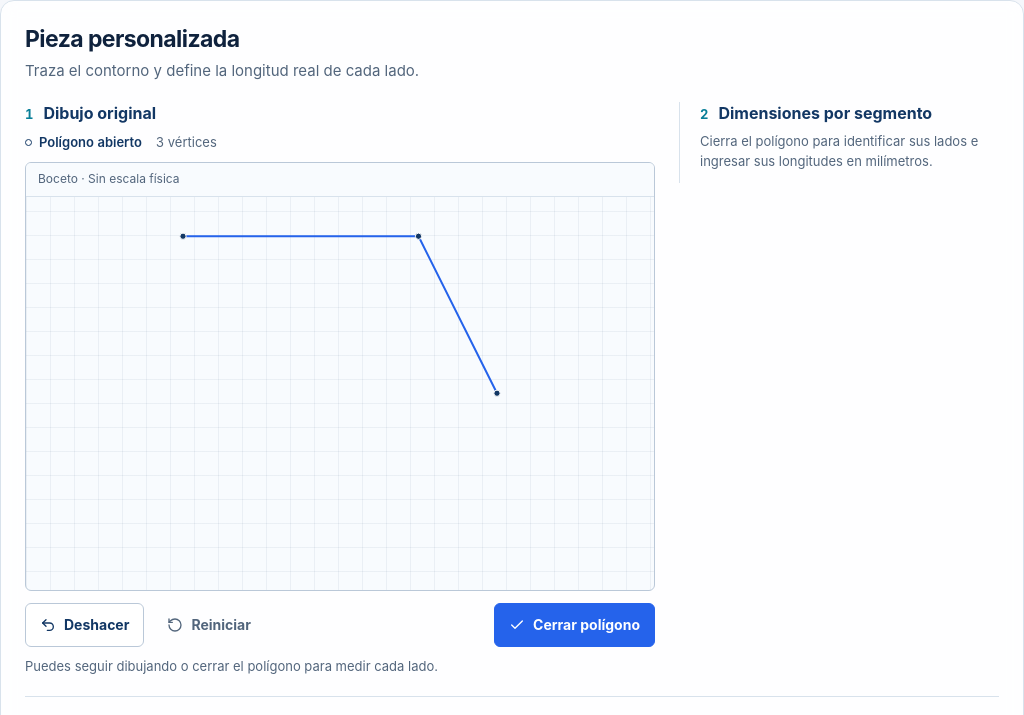
HU-007 T01 — dibujo y controles (caja negra) › T01-C04: deshacer abierto elimina el último punto hasta volver al inicio
Click the button with aria-label "Deshacer último vértice" at (85, 625), box [25,603,144,647]
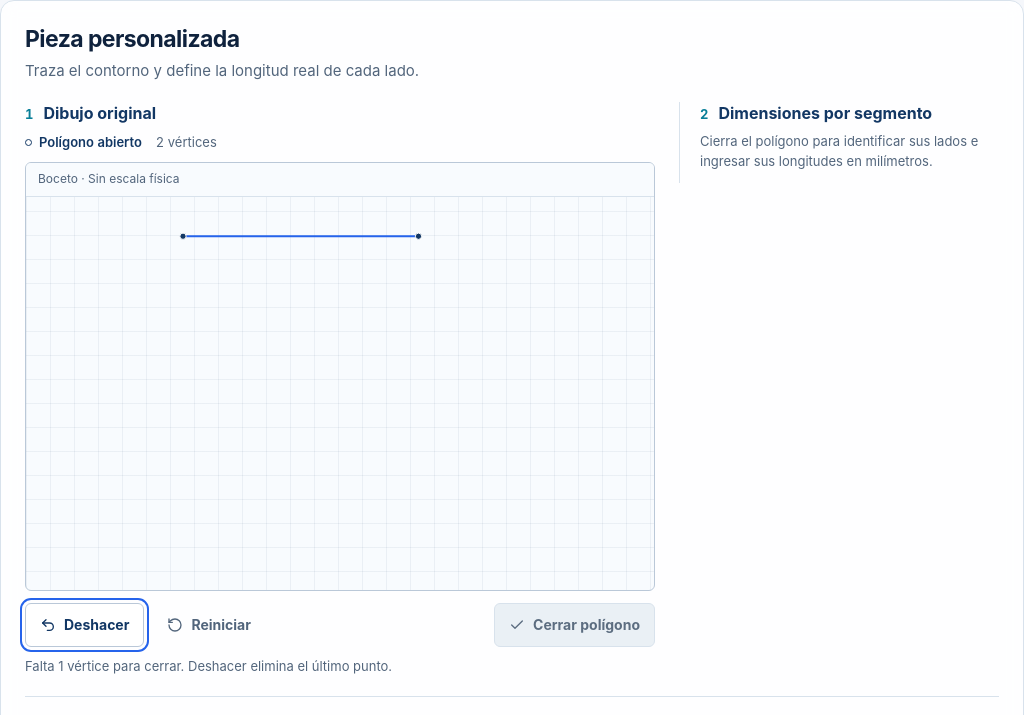
Check: the button "Cerrar polígono" is disabled, box [494,603,655,647]
Click the button with aria-label "Deshacer último vértice" at (85, 625), box [25,603,144,647]
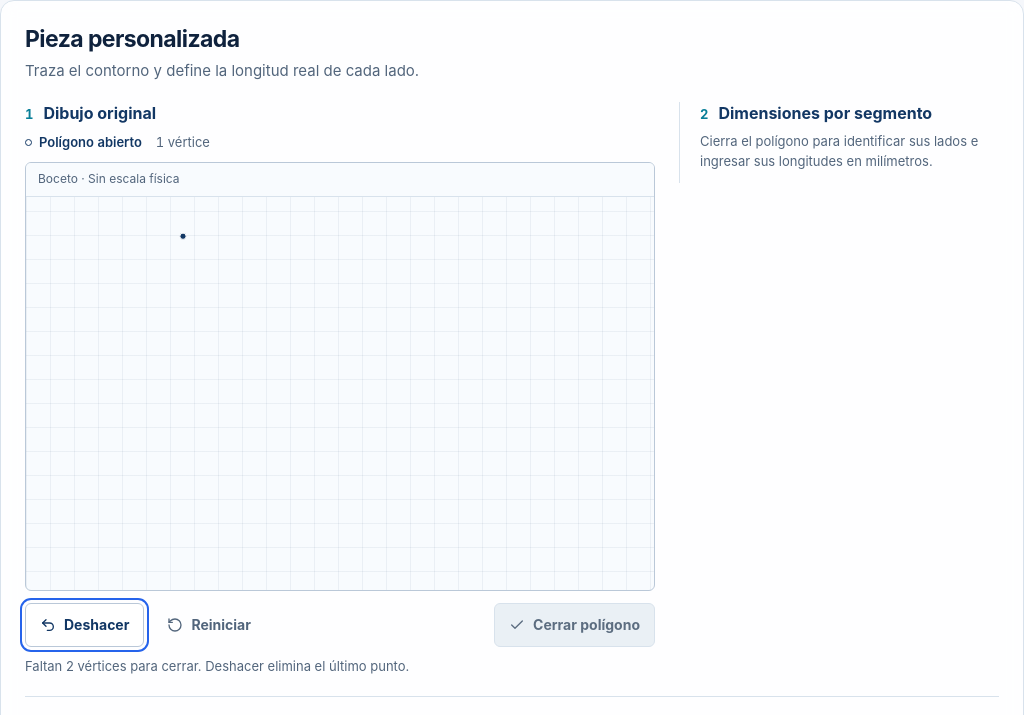
Check: the button "Cerrar polígono" is disabled, box [494,603,655,647]
Click the button with aria-label "Deshacer último vértice" at (85, 625), box [25,603,144,647]
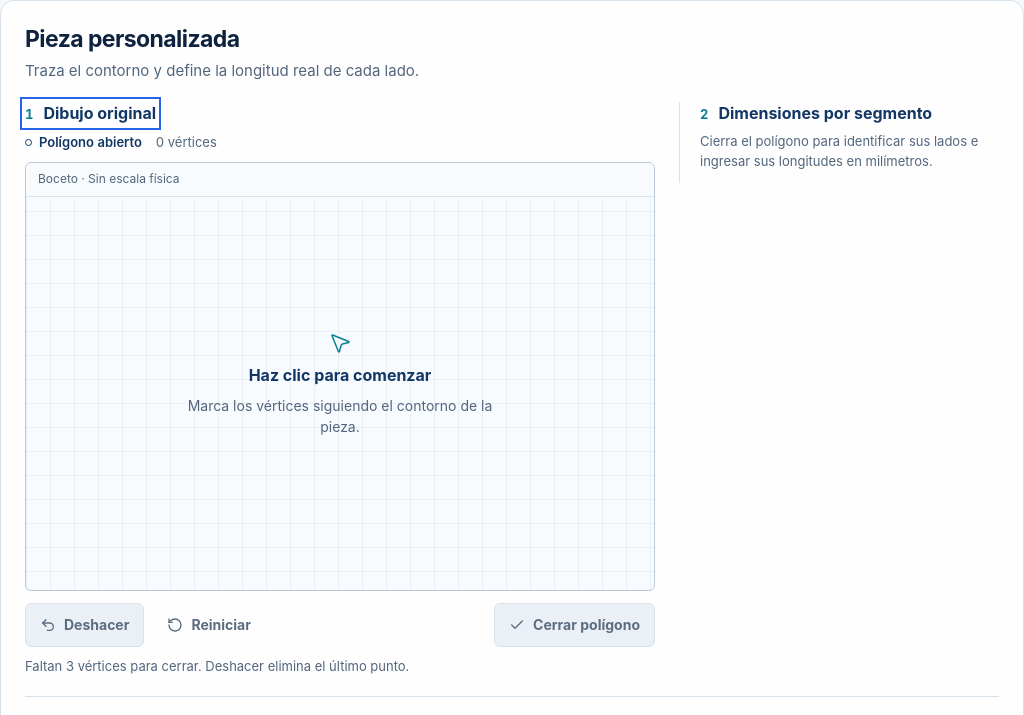
Check: the button "Cerrar polígono" is disabled, box [494,603,655,647]
Check: the text "0 vértices" is shown, box [156,133,217,152]
Check: the button with aria-label "Deshacer último vértice" is disabled, box [25,603,144,647]
